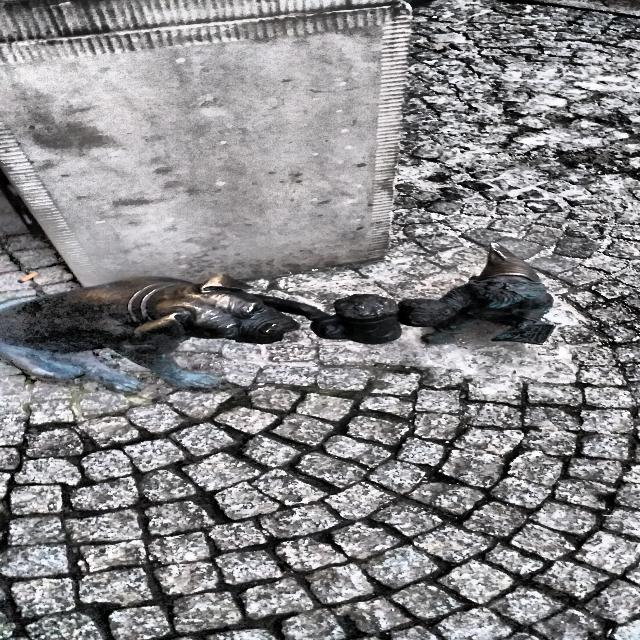Piwozlopek_ i_Piesel_Piwosz: (0, 244, 553, 392)
